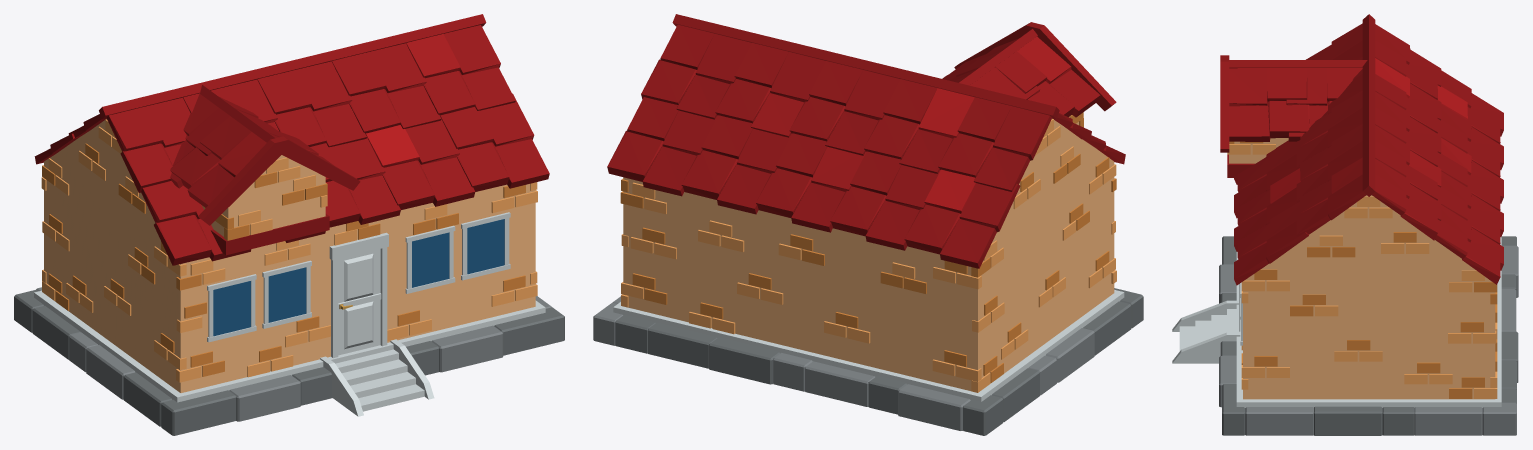
Rendered from SM_House_2.FBX.
The picture shows the model from 3 angles, left to right: view 1: azimuth 30°, elevation 25°; view 2: azimuth 150°, elevation 25°; view 3: azimuth 270°, elevation 25°; orthographic projection. The views are drawn at different scales.
Visible parts, largest first — view 1: SM_House_2; view 2: SM_House_2; view 3: SM_House_2.
Part boxes in pixels (x1,y1,x2,y2): SM_House_2: (14, 14, 564, 435); SM_House_2: (593, 14, 1143, 435); SM_House_2: (1172, 14, 1518, 435).
Size of what is drawn, in the model's own units: 933 by 769 by 609.
